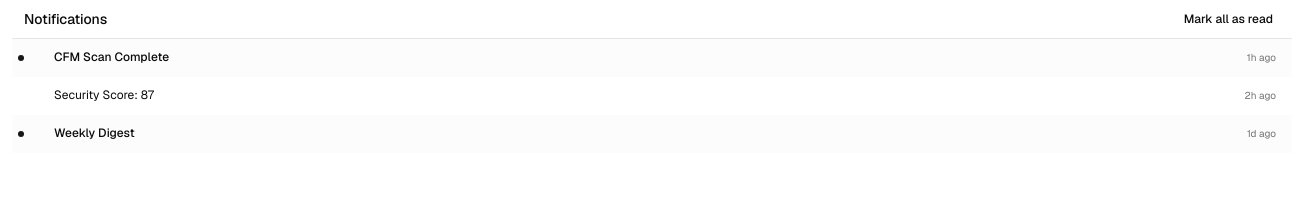
Test: NotificationCenter › expands digest body on digest_summary click
The width and height of the screenshot is (1304, 212).
Expected: the text "Weekly Digest" is shown, [54,125,135,141]
Expected: the text "Spend up 12%" is not shown
Click the button "Weekly Digest 1d ago" at (94, 133), box [12,115,1292,153]
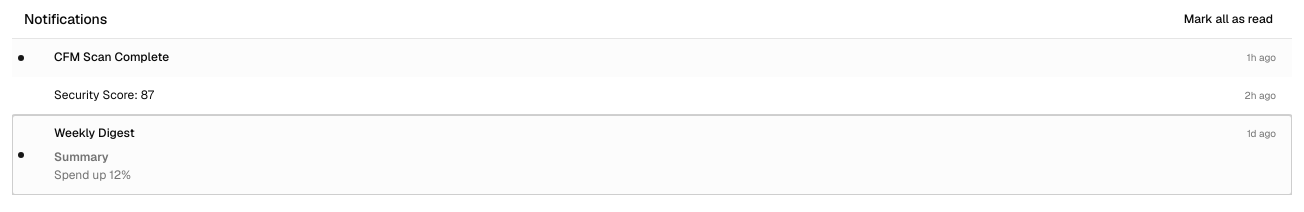
Expected: the text "Spend up 12%" is shown, [54,167,131,183]
